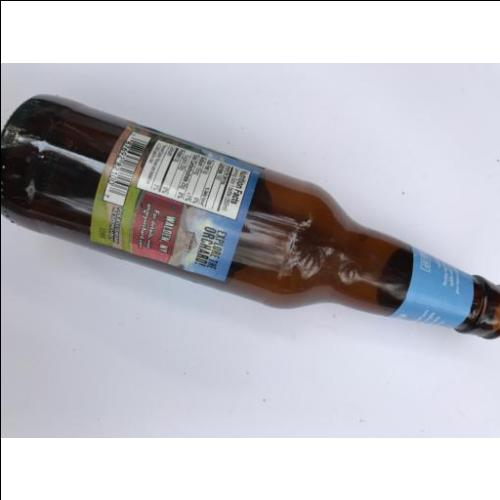glass: (3, 91, 499, 341)
